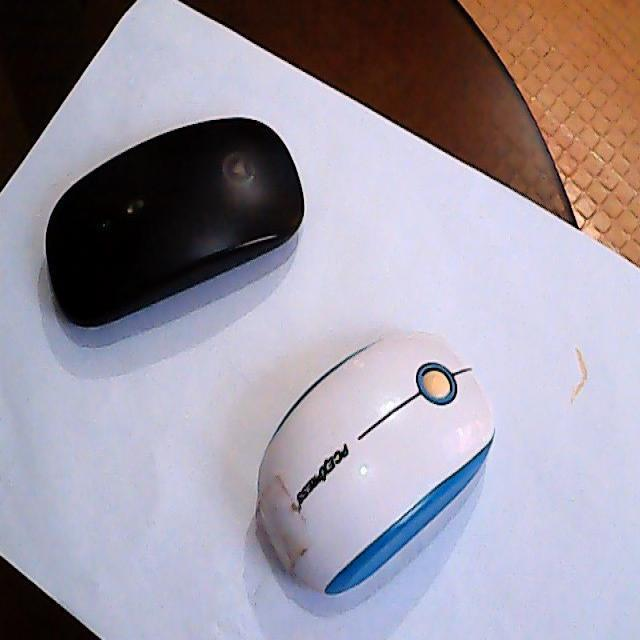Mouse: (256, 326, 498, 596), (44, 114, 305, 330)
